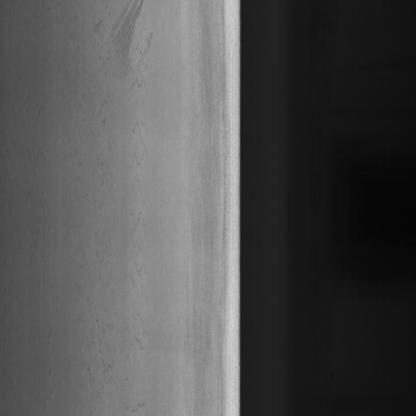silk_spot: (82, 120, 146, 398)
water_spot: (90, 0, 158, 88)
